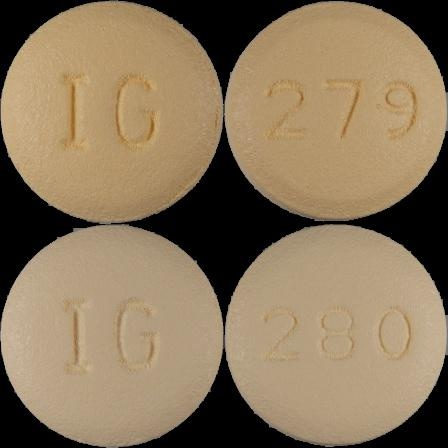31722-279: (0, 0, 224, 224)
